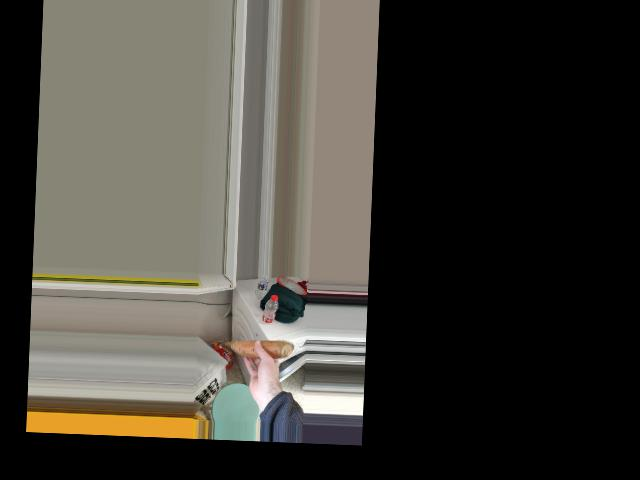sweet_potato: (227, 339, 287, 359)
